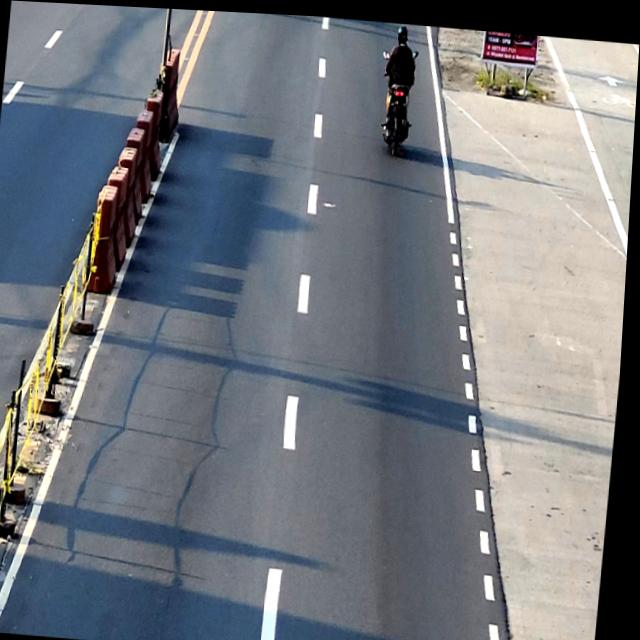Motorcycle: (374, 42, 419, 153)
